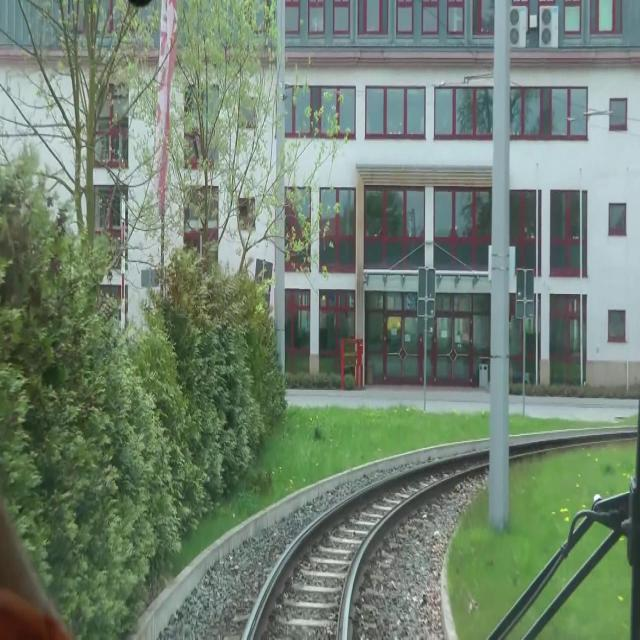rail-track: (252, 456, 489, 639)
